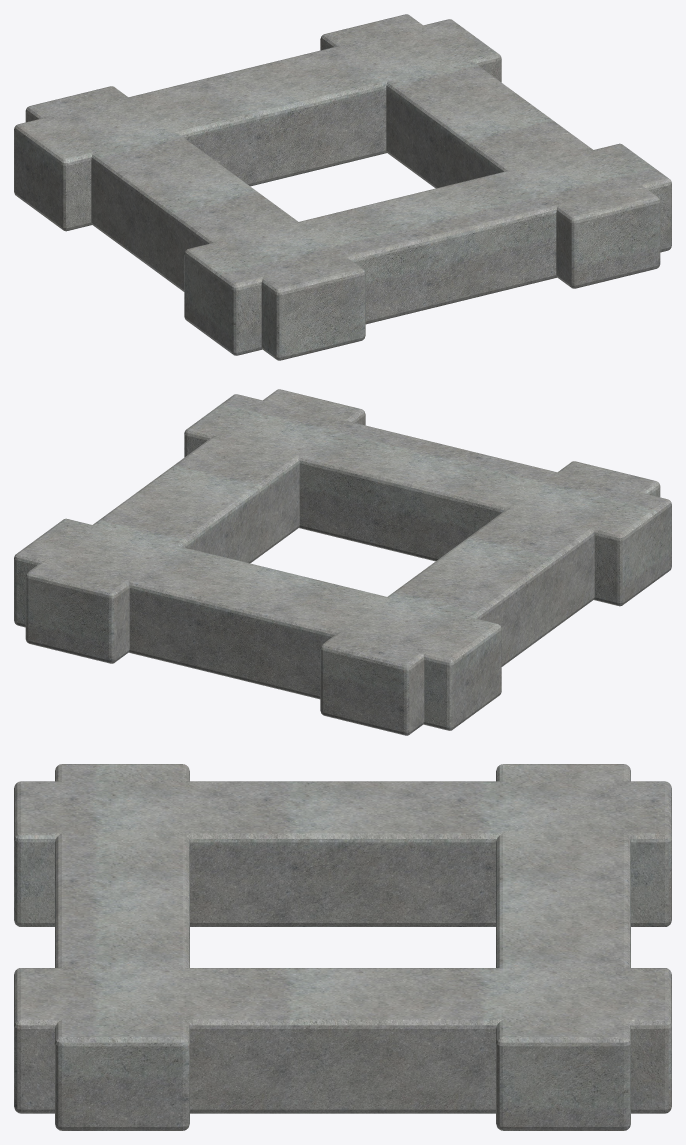
File: ConcreteWall.FBX
The picture shows the model from 3 angles, top to bottom: view 1: azimuth 30°, elevation 25°; view 2: azimuth 150°, elevation 25°; view 3: azimuth 270°, elevation 25°; orthographic projection. The views are drawn at different scales.
Parts seen in each view (by area): view 1: ChamferBox003; view 2: ChamferBox003; view 3: ChamferBox003.
Boxes of the visible parts, x1,y1,x2,y2 form: ChamferBox003: [14, 14, 671, 360]; ChamferBox003: [14, 389, 671, 735]; ChamferBox003: [14, 764, 671, 1130].
Size of the model in its own units: 89.48 by 14 by 89.48.
Materials: 1 (1 with a texture image).
